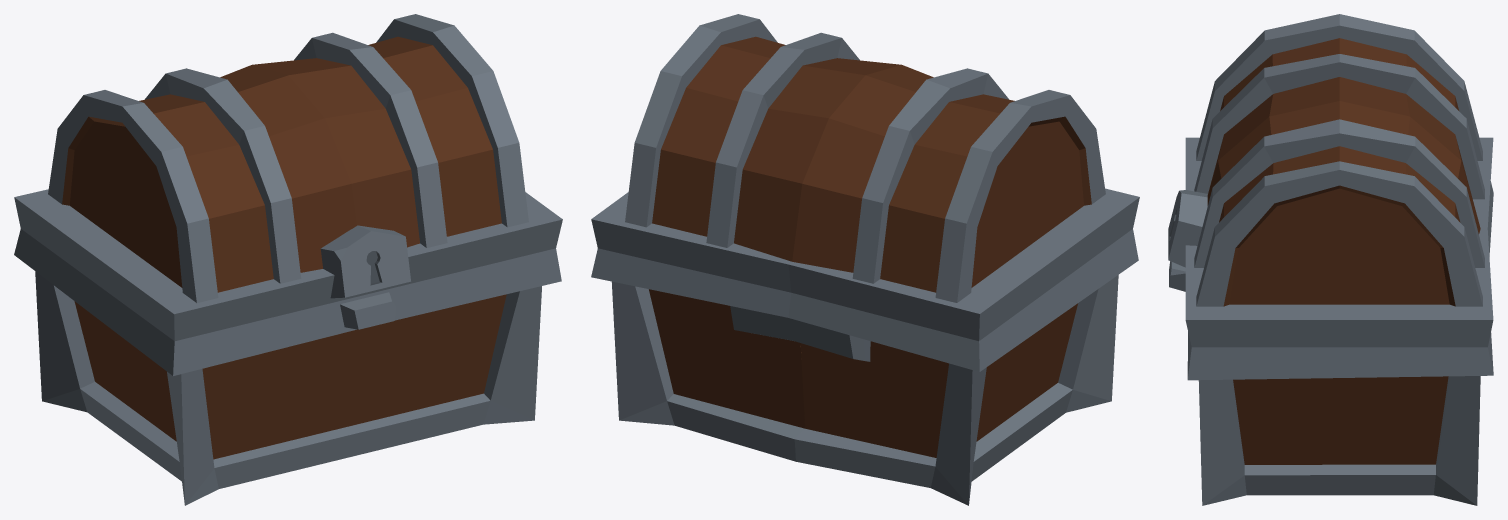
The model's file is chest-bottom.fbx.
3 renders of one model, left to right at view 1: azimuth 30°, elevation 25°; view 2: azimuth 150°, elevation 25°; view 3: azimuth 270°, elevation 25°, orthographic. The views are drawn at different scales.
Visible parts, largest first — view 1: chest-locked; view 2: chest-locked; view 3: chest-locked.
Part boxes in pixels (x1,y1,x2,y2): chest-locked: [14, 14, 562, 505]; chest-locked: [591, 14, 1139, 505]; chest-locked: [1168, 14, 1493, 505].
Bounding box in the file's own units: 95.39 × 81.18 × 71.89.
